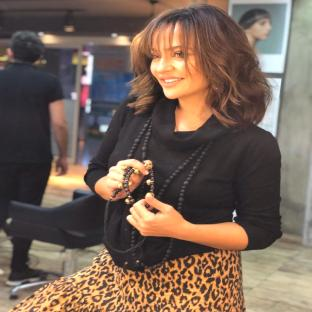Human: (10, 5, 282, 312)
